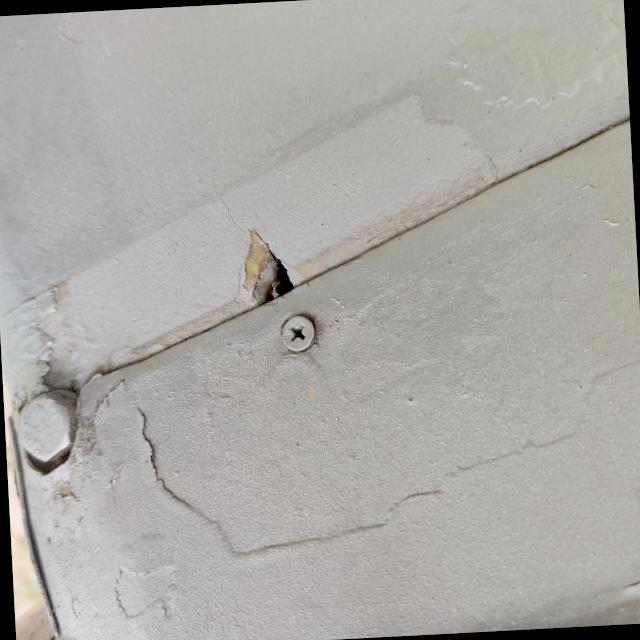crack: (203, 202, 324, 321)
